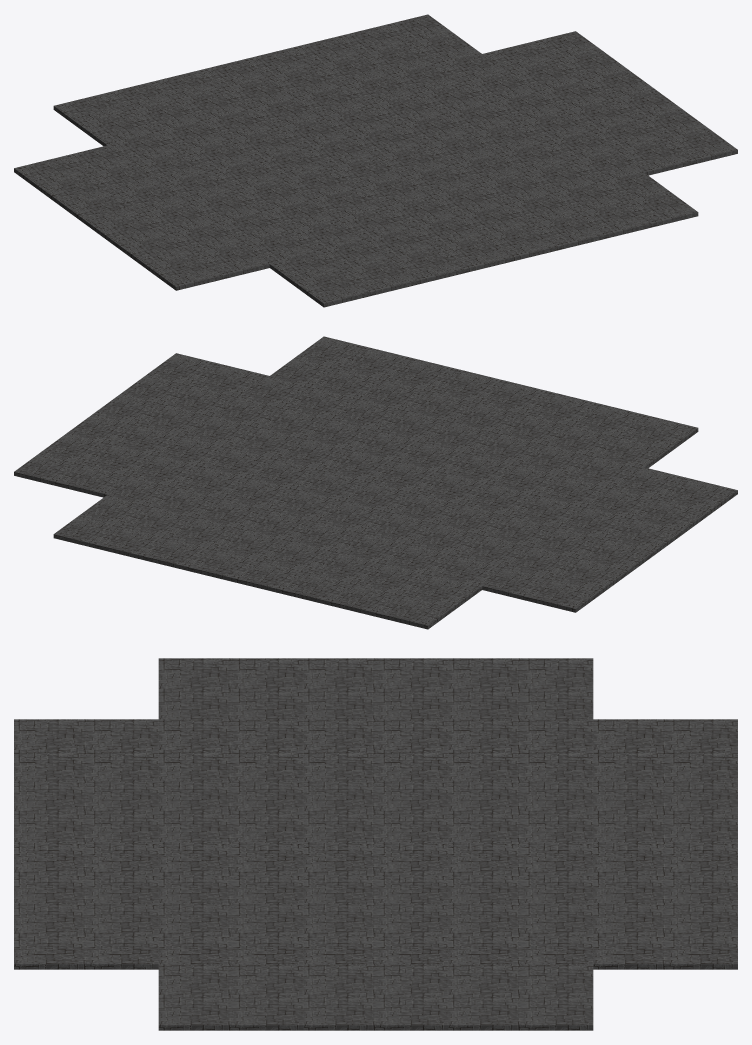
File: Bossraum Dach.fbx
3 views of the same model, one above another, from view 1: azimuth 30°, elevation 25°; view 2: azimuth 150°, elevation 25°; view 3: azimuth 270°, elevation 25° (orthographic). The views are drawn at different scales.
Visible parts, largest first — view 1: Bossraum Dach; view 2: Bossraum Dach; view 3: Bossraum Dach.
Part boxes in pixels (x1,y1,x2,y2): Bossraum Dach: (14, 14, 737, 307); Bossraum Dach: (14, 336, 737, 629); Bossraum Dach: (14, 658, 737, 1030).
Size of the model in its own units: 3000 by 2500 by 20.
1 material, 1 textured.
